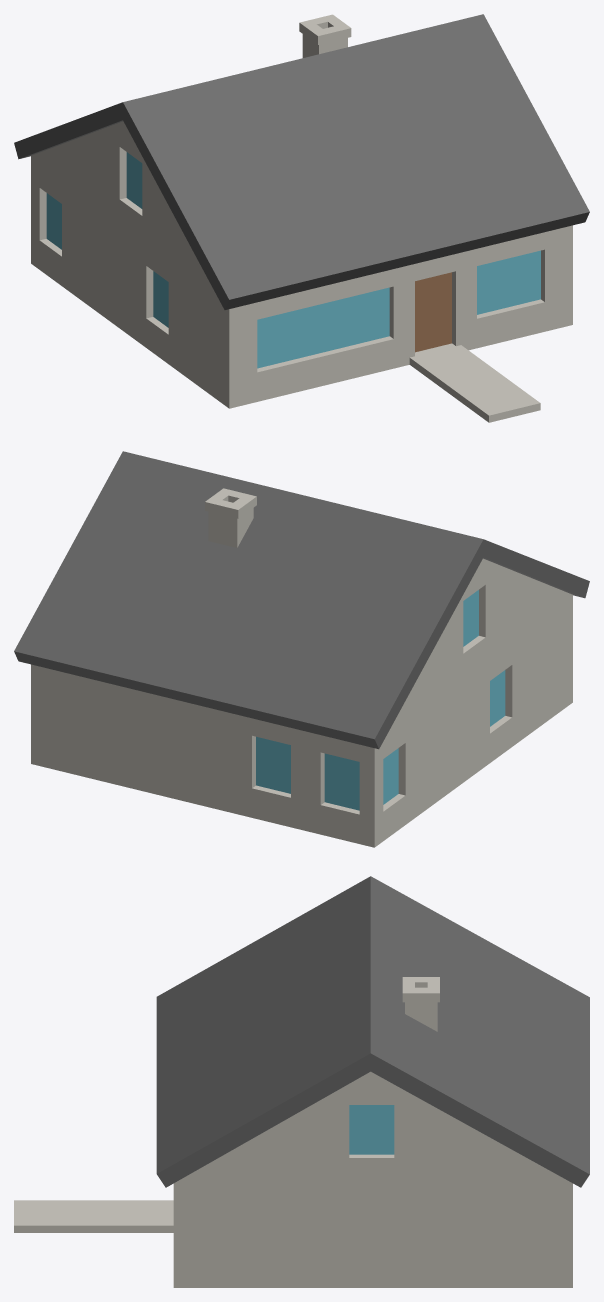
The model's file is house-small.glb.
The picture shows the model from 3 angles, top to bottom: view 1: azimuth 30°, elevation 25°; view 2: azimuth 150°, elevation 25°; view 3: azimuth 270°, elevation 25°; orthographic projection.
Visible parts, largest first — view 1: house-small; view 2: house-small; view 3: house-small.
Boxes of the visible parts, x1=… form: house-small: x1=14, y1=14, x2=589, y2=422; house-small: x1=14, y1=451, x2=589, y2=847; house-small: x1=14, y1=876, x2=589, y2=1287.
Bounding box in the file's own units: 10.5 × 6.68 × 14.42.
Materials: 1 (1 with a texture image).
